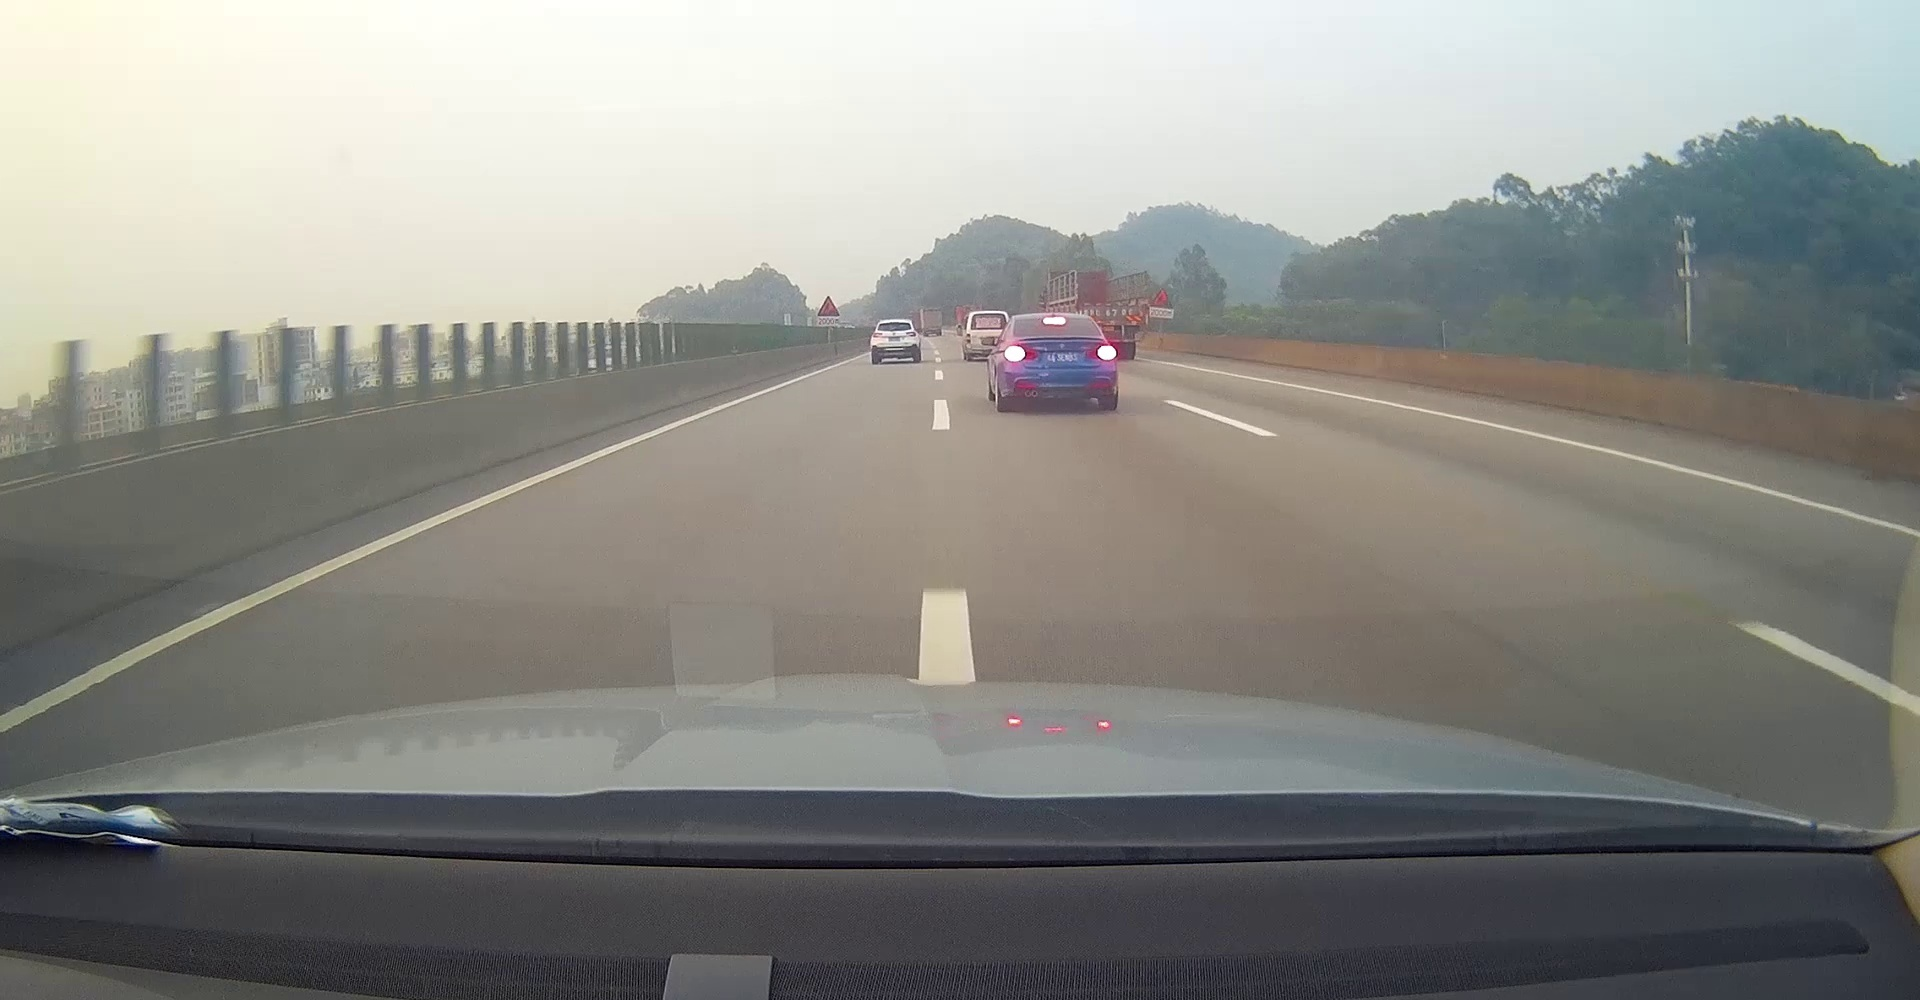L_light: (1006, 346, 1036, 360), (872, 332, 883, 338)
R_light: (1087, 345, 1112, 359), (907, 332, 916, 336)
T_light: (1046, 319, 1064, 322), (891, 324, 899, 325)
day-brake: (1001, 313, 1117, 412)
day-no: (870, 320, 919, 364)
